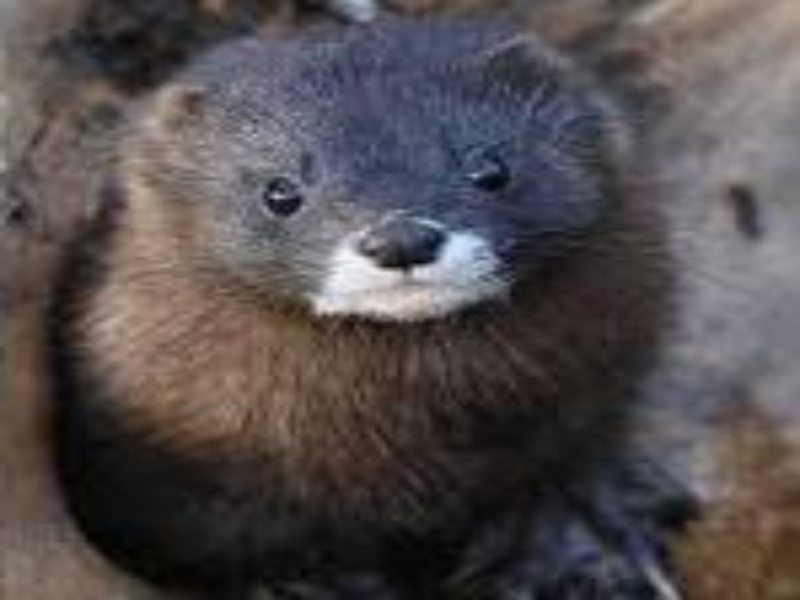minkish: (47, 15, 674, 560)
